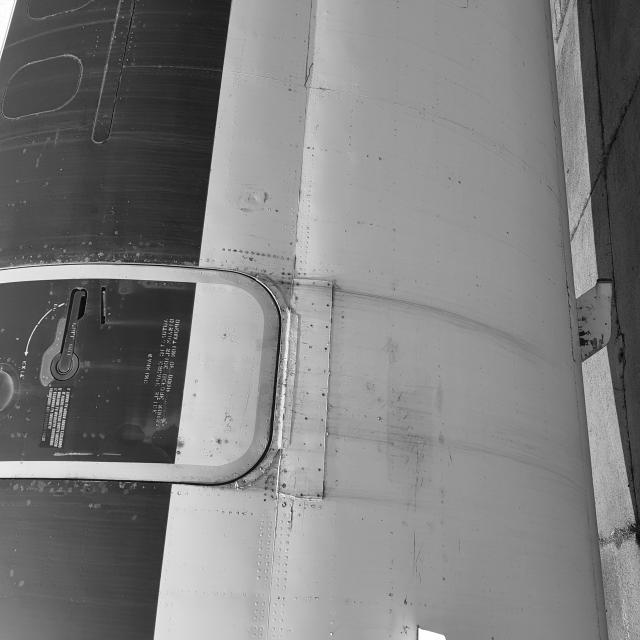crack: (304, 61, 321, 87)
